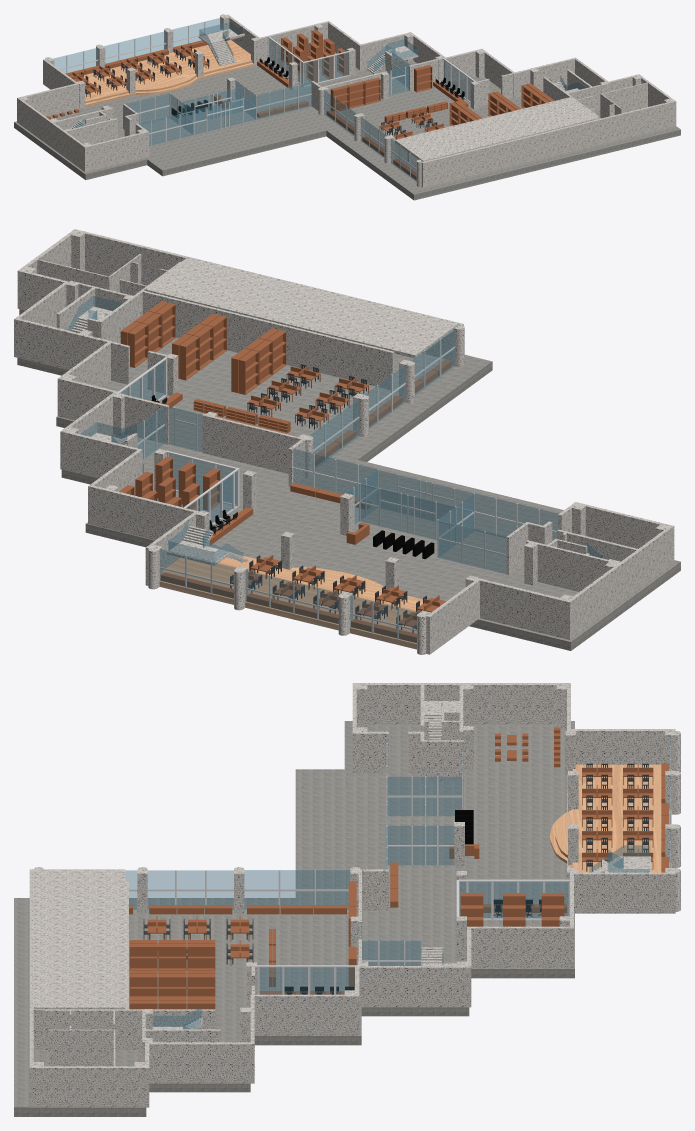
The model's file is SmartLibrary_POC03.glb.
3 renders of one model, top to bottom at view 1: azimuth 30°, elevation 25°; view 2: azimuth 150°, elevation 25°; view 3: azimuth 270°, elevation 25°, orthographic. The views are drawn at different scales.
Parts seen in each view (by area): view 1: Plane.032, Cube.001, Cube.057, Cube, Plane, Cube.012, Cube.058, Cube.010, Cube.048, Plane.007, Plane.020, Cube.011 (+30 smaller); view 2: Plane.032, Cube.001, Cube.057, Cube.012, Cube, Cube.011, Plane, Cube.010, Plane.001, Plane.035, Plane.007, Cube.058 (+23 smaller); view 3: Plane.032, Cube.001, Cube.057, Cube, Cube.012, Plane, Plane.023, Cube.010, Plane.025, Plane.012, Cube.052, Cube.058 (+15 smaller).
Boxes of the visible parts, box(x1,y1,x2,y2) form: Plane.032: box(14, 51, 680, 200); Cube.001: box(17, 14, 676, 187); Cube.057: box(395, 97, 599, 161); Cube: box(21, 14, 672, 186); Plane: box(83, 40, 253, 106); Cube.012: box(407, 69, 647, 161); Cube.058: box(281, 29, 348, 82); Cube.010: box(53, 104, 138, 144); Cube.048: box(330, 65, 432, 112); Plane.007: box(194, 95, 255, 134); Plane.020: box(257, 82, 311, 119); Cube.011: box(322, 59, 514, 110); Plane.032: box(17, 309, 680, 650); Cube.001: box(14, 229, 674, 654); Cube.057: box(144, 257, 459, 358); Cube.012: box(37, 254, 394, 389); Cube: box(23, 231, 668, 654); Cube.011: box(111, 342, 302, 473); Plane: box(159, 554, 422, 649); Cube.010: box(506, 521, 637, 591); Plane.001: box(245, 570, 340, 629); Plane.035: box(359, 483, 454, 539); Plane.007: box(378, 470, 473, 527); Cube.058: box(119, 456, 220, 511); Plane.032: box(14, 721, 574, 1116); Cube.001: box(29, 683, 675, 1107); Cube.057: box(33, 869, 125, 1009); Cube: box(33, 685, 680, 1066); Cube.012: box(44, 881, 220, 1066); Plane: box(550, 764, 671, 872); Plane.023: box(244, 870, 349, 909); Cube.010: box(408, 685, 464, 781); Plane.025: box(148, 870, 233, 909); Plane.012: box(388, 777, 461, 815); Cube.052: box(129, 943, 215, 973); Cube.058: box(460, 893, 564, 926).
Size of the model in its own units: 59.43 by 4.15 by 43.35.
15 materials, 4 textured.
